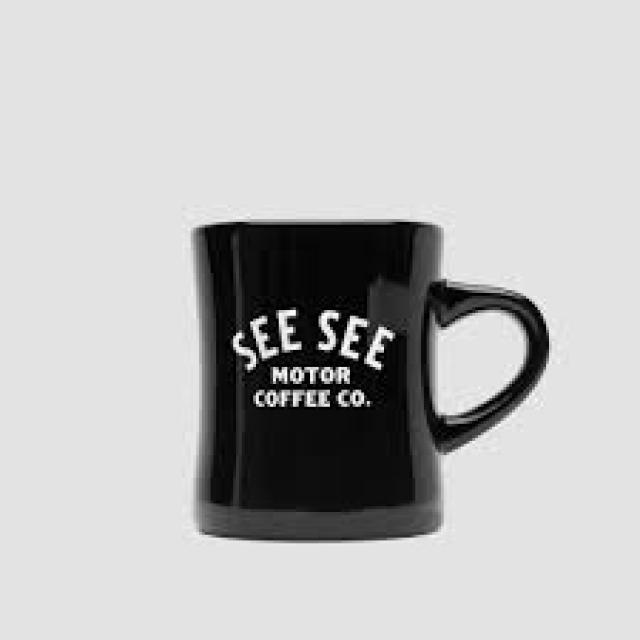taza: (189, 215, 552, 545)
